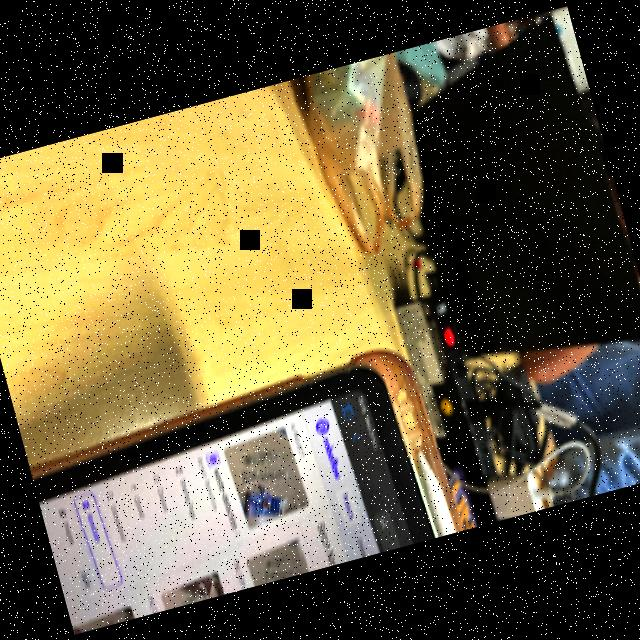plastic_bag: (284, 52, 438, 254)
